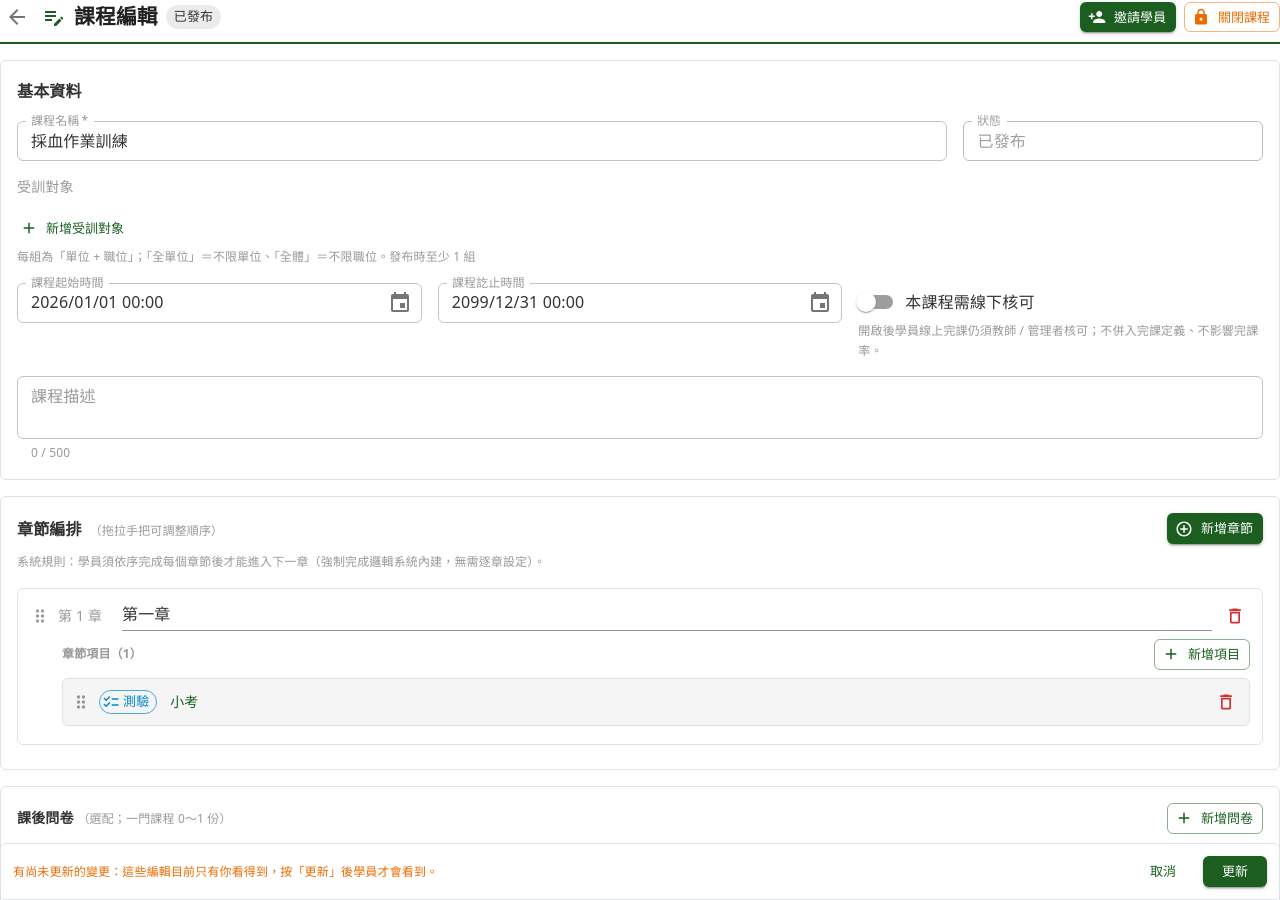
Test: 重測視窗對待生效要求的說明依儲存路徑而定（#767 A1） › 測驗設定存檔時：說明「僅儲存」會一併取消
Step 1. Click the button "小考" → (184, 701), box [165,688,1203,716]
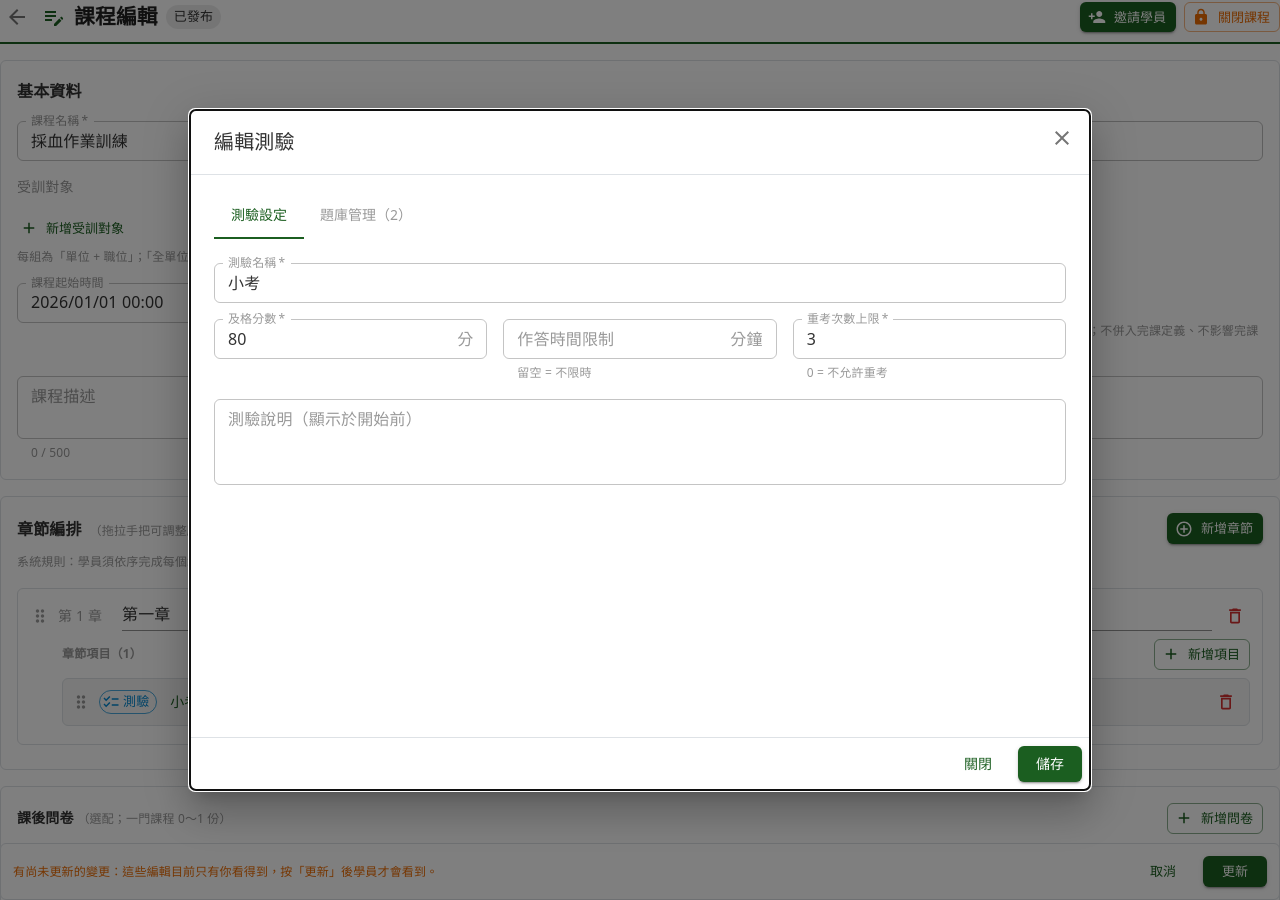
Step 2. Replace the text in the number field labelled "及格分數 *" with "85" → (332, 339), box [214,319,449,359]
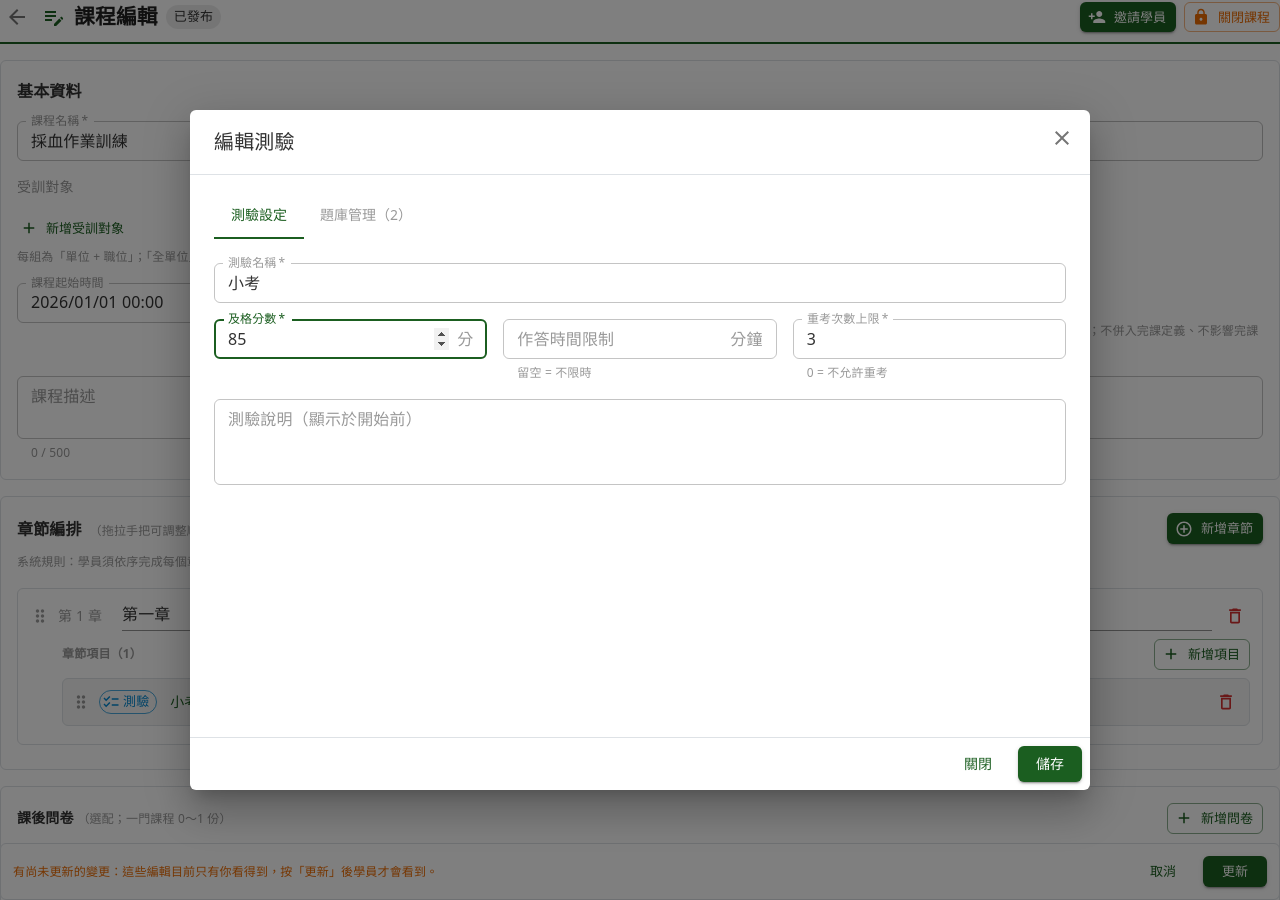
Step 3. Click the button "儲存" → (1050, 764), box [1018,746,1082,782]
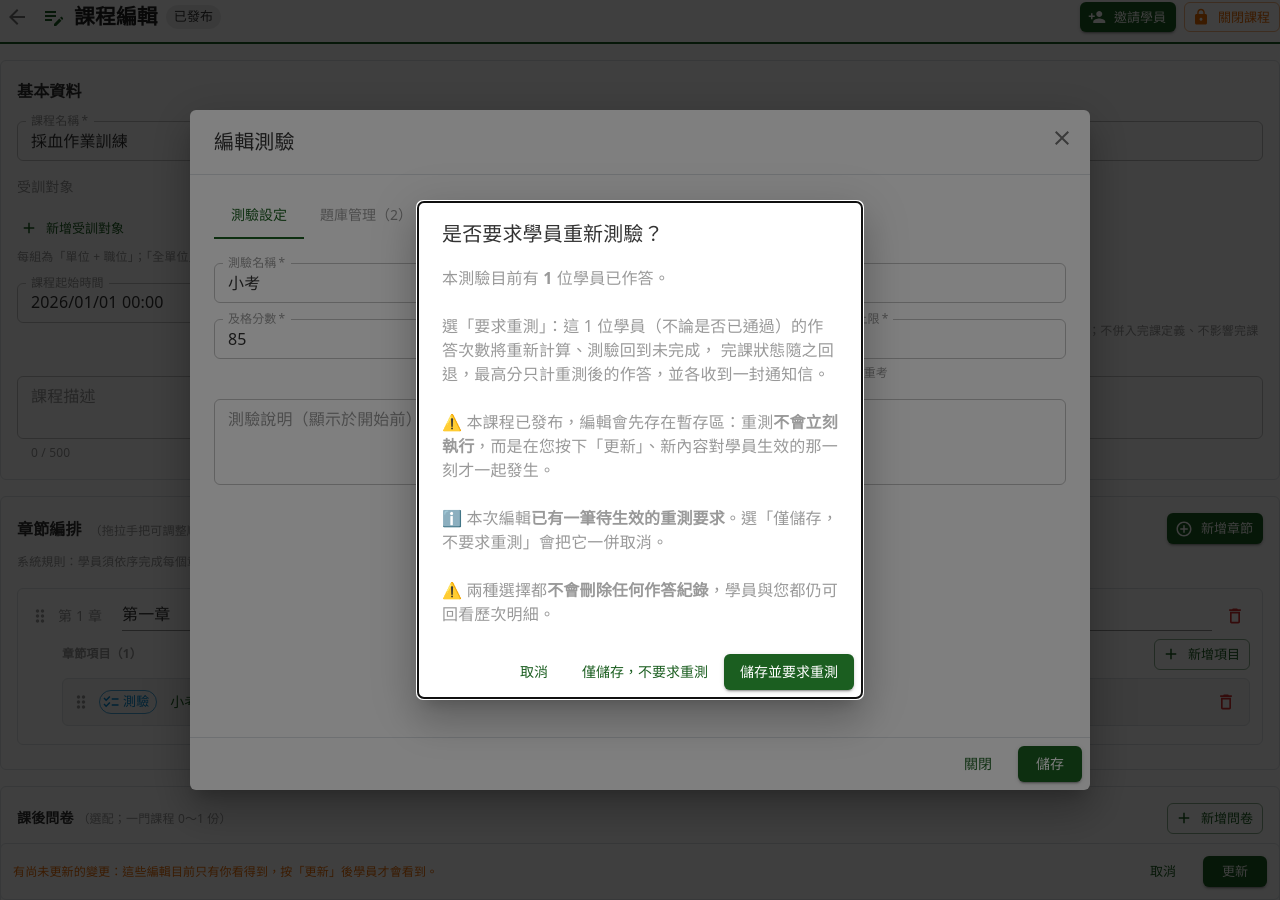
Expected: the dialog "是否要求學員重新測驗？" does not show "不會取消它", [418,202,862,698]
Now the dialog "是否要求學員重新測驗？" shows "會把它一併取消", box [442,507,838,553]
